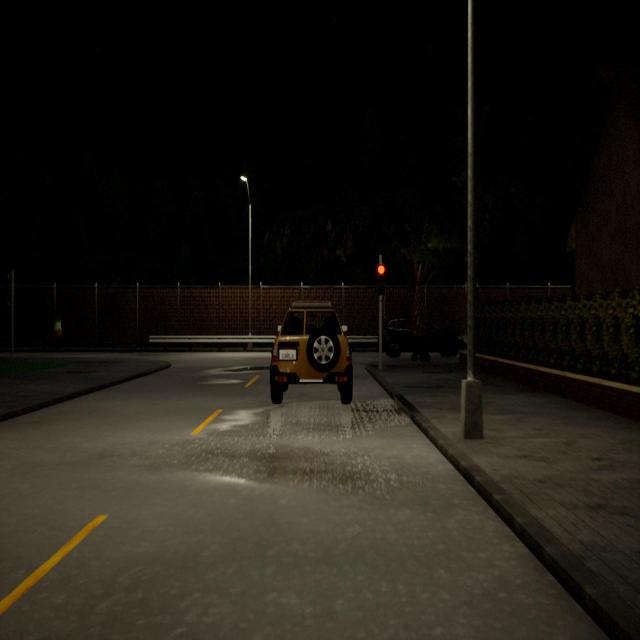Vehicle: (270, 298, 352, 404), (381, 318, 467, 358)
traffic_light: (377, 264, 386, 296)
